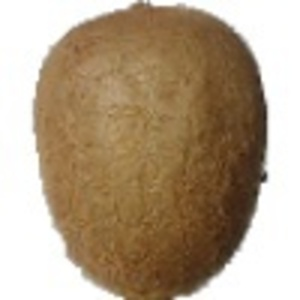kiwi: (31, 1, 270, 300)
